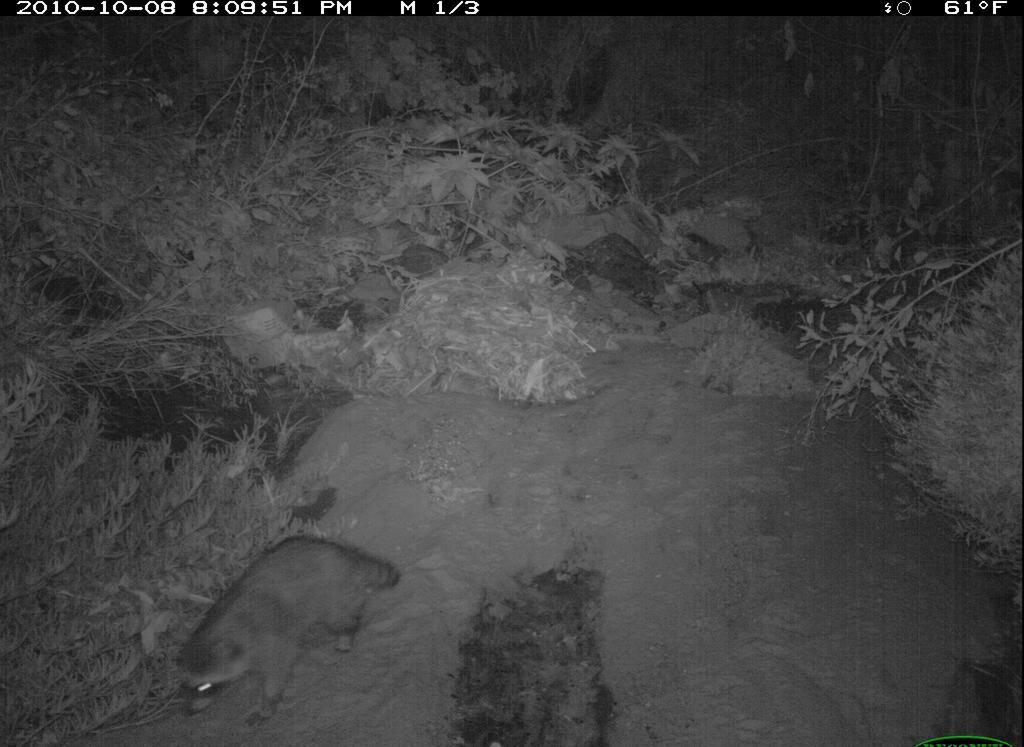raccoon: (171, 533, 402, 729)
